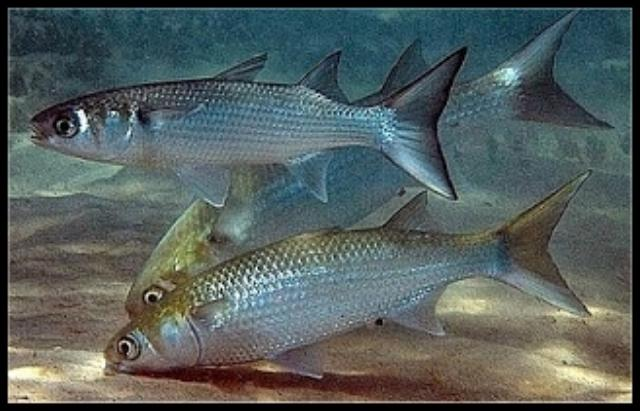Mulut: (23, 112, 55, 160), (96, 345, 140, 377)
Sirip Anal: (392, 278, 482, 354), (286, 140, 348, 208)
Sirip Dada: (143, 101, 220, 143), (186, 294, 258, 328)
Sirip Ekor: (500, 162, 614, 327), (388, 42, 482, 208), (508, 11, 620, 136)
Sirip Perut: (168, 155, 240, 211), (267, 338, 333, 382)
Sirip Punggung: (212, 36, 348, 108), (304, 182, 456, 242)
